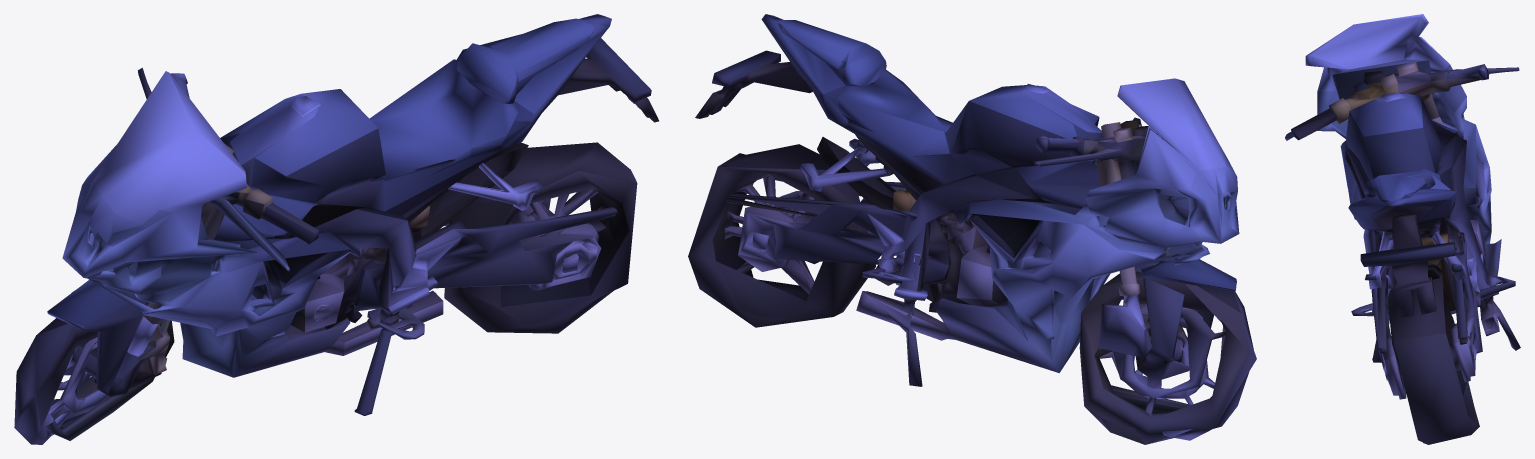
The model's file is model.progressive.glb.
3 views of the same model, side by side, from view 1: azimuth 30°, elevation 25°; view 2: azimuth 150°, elevation 25°; view 3: azimuth 270°, elevation 25° (orthographic). The views are drawn at different scales.
Parts seen in each view (by area): view 1: material; view 2: material; view 3: material.
Boxes of the visible parts, bbox=[...] form: material: bbox=[14, 14, 658, 444]; material: bbox=[688, 14, 1256, 444]; material: bbox=[1285, 14, 1520, 444].
Size of the model in its own units: 1.88 by 1.04 by 0.7869.
Materials: 1 (1 with a texture image).
